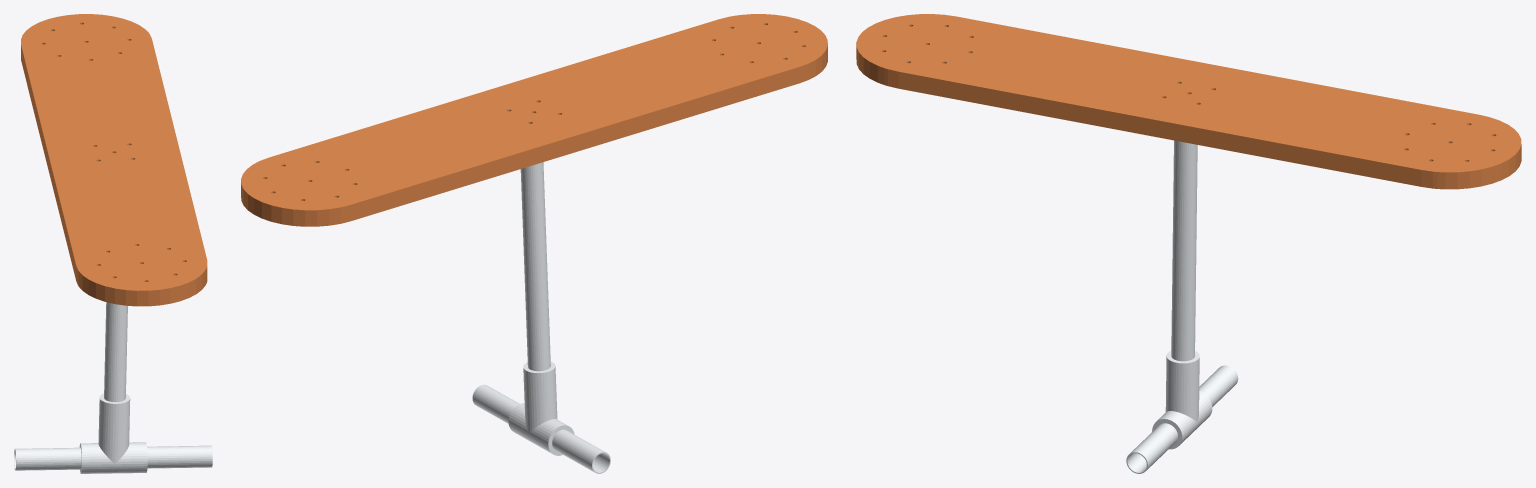
File: pathmarker3.dae
The picture shows the model from 3 angles, left to right: view 1: azimuth 30°, elevation 25°; view 2: azimuth 150°, elevation 25°; view 3: azimuth 270°, elevation 25°; orthographic projection. The views are drawn at different scales.
Parts seen in each view (by area): view 1: Path Marker - Tapa-2.001, Path Marker - Base-2.001; view 2: Path Marker - Tapa-2.001, Path Marker - Base-2.001; view 3: Path Marker - Tapa-2.001, Path Marker - Base-2.001.
Boxes of the visible parts, left/top/right/bottom form: Path Marker - Tapa-2.001: left=21, top=14, right=207, bottom=306; Path Marker - Base-2.001: left=14, top=302, right=212, bottom=473; Path Marker - Tapa-2.001: left=241, top=14, right=827, bottom=226; Path Marker - Base-2.001: left=472, top=162, right=610, bottom=473; Path Marker - Tapa-2.001: left=856, top=14, right=1521, bottom=189; Path Marker - Base-2.001: left=1126, top=140, right=1238, bottom=473.
Bounding box in the file's own units: 0.3997 × 0.709 × 0.4051.
